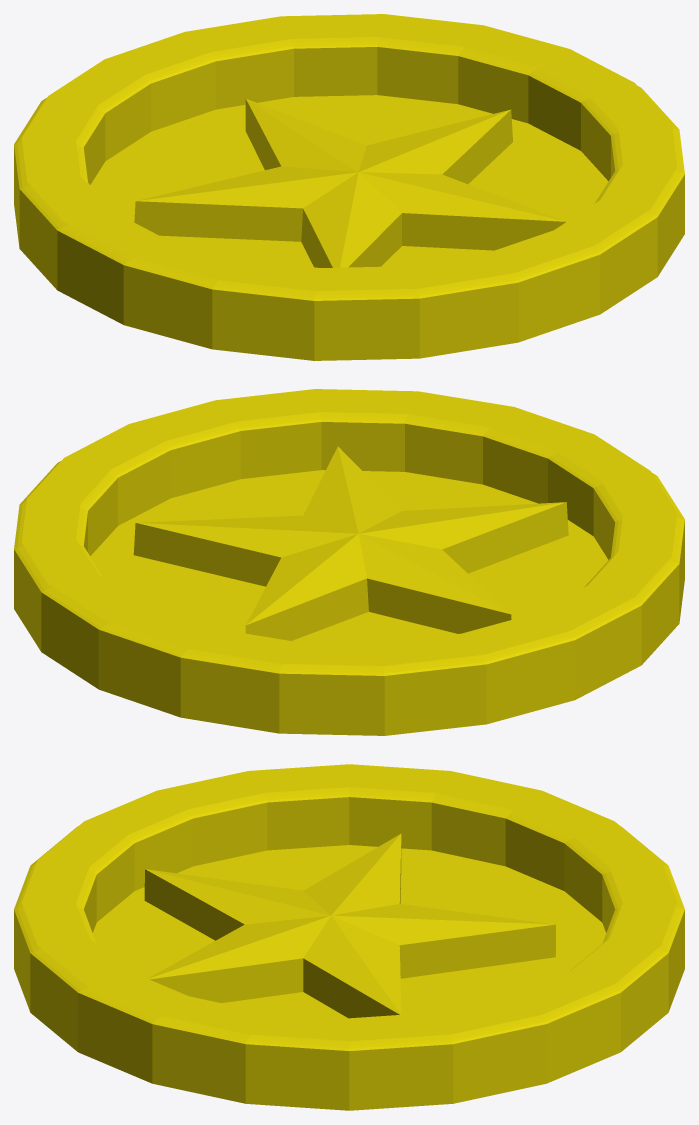
File: Coin.fbx
The picture shows the model from 3 angles, top to bottom: view 1: azimuth 30°, elevation 25°; view 2: azimuth 150°, elevation 25°; view 3: azimuth 270°, elevation 25°; orthographic projection.
Visible parts, largest first — view 1: Cylinder; view 2: Cylinder; view 3: Cylinder.
Part boxes in pixels (x1=…): Cylinder: x1=14, y1=14, x2=684, y2=360; Cylinder: x1=14, y1=389, x2=684, y2=735; Cylinder: x1=14, y1=764, x2=684, y2=1110.
Size of the model in its own units: 200 by 24 by 200.
